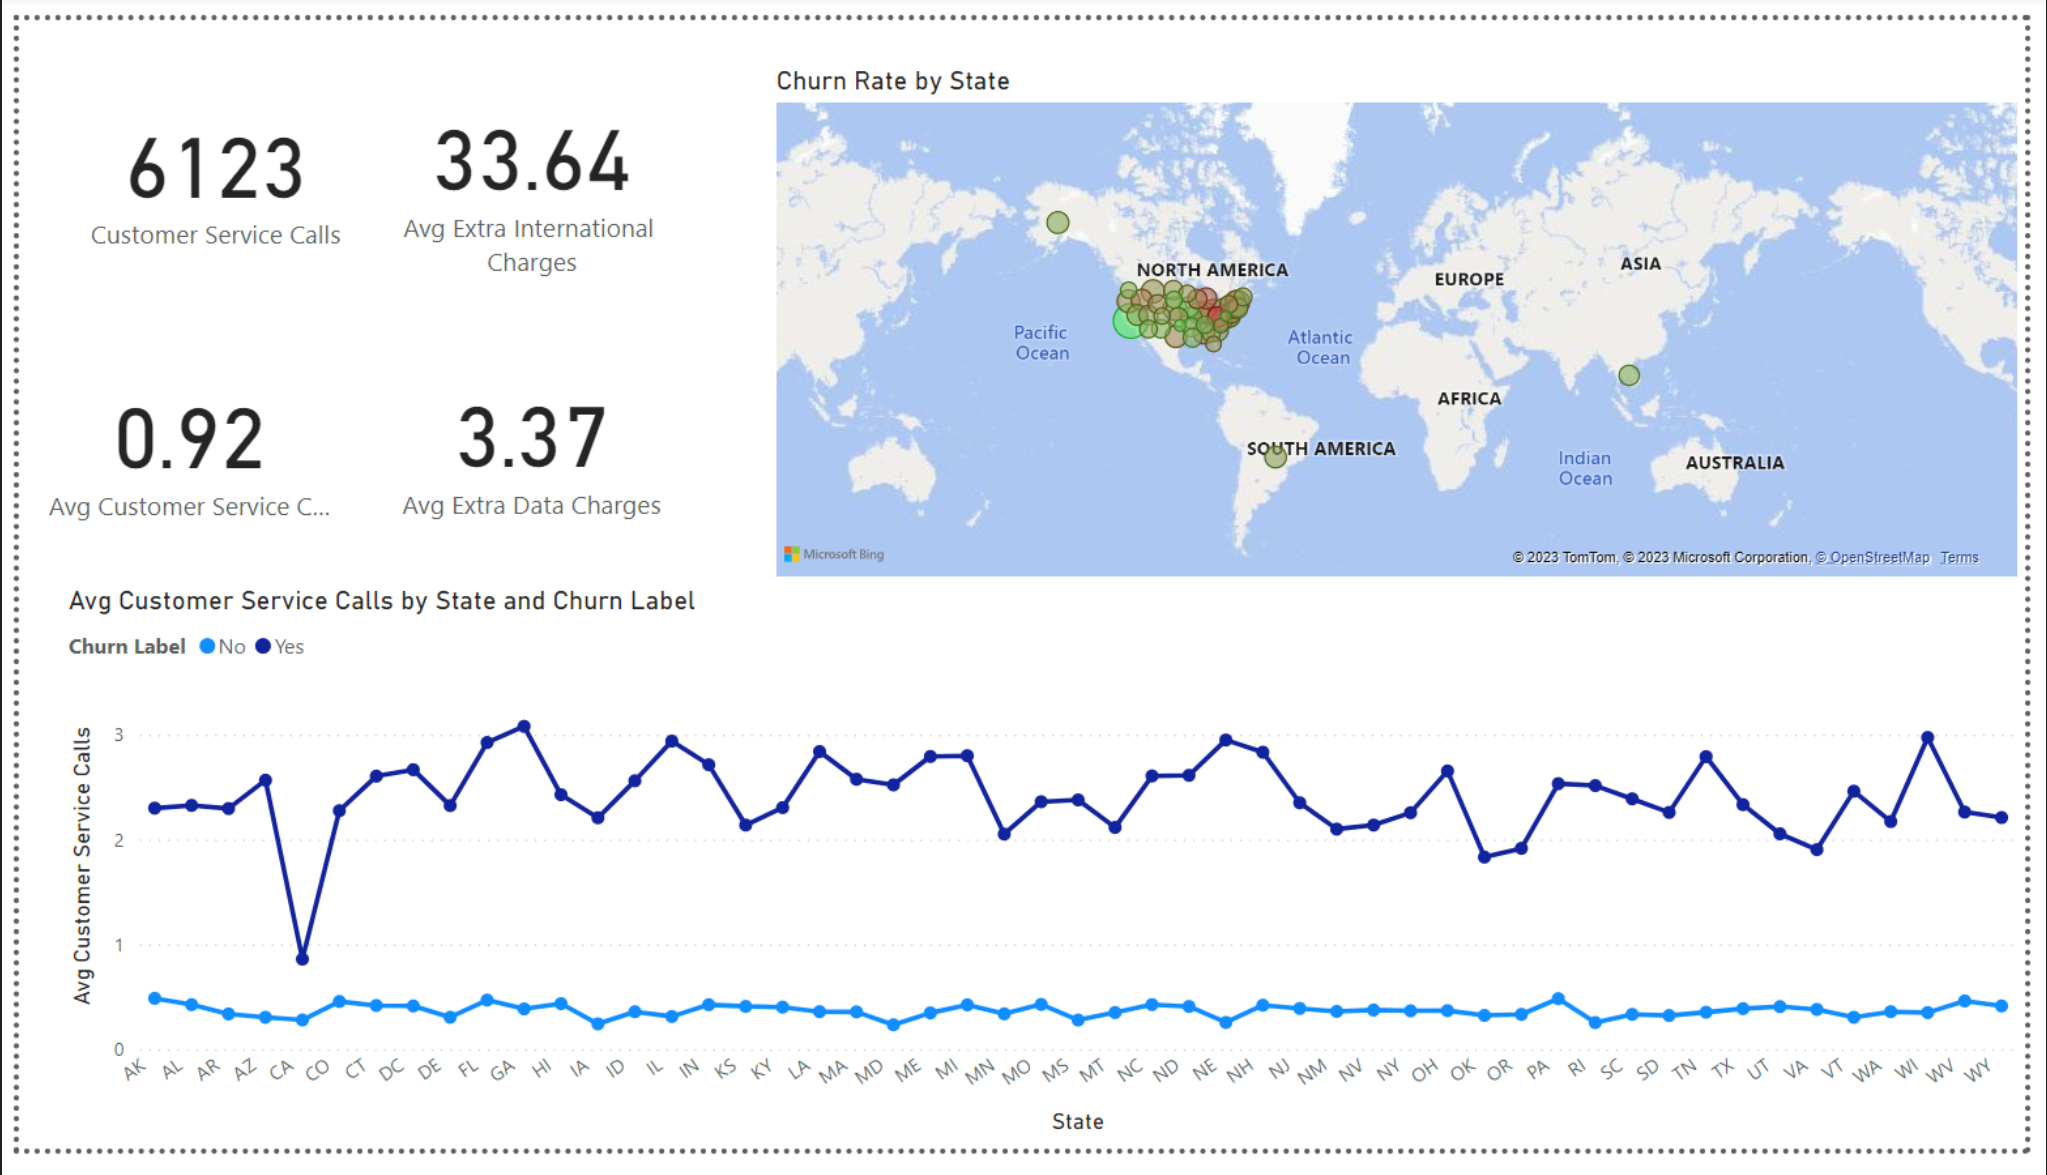

What the dashboard file says about the page in this screenshot:
{"tool":"powerbi","page":{"name":"Insights","canvas":[1280,720],"ordinal":9},"visuals":[{"type":"card","fields":{"Values":["Sum(Databel - Data.Customer Service Calls)"]},"box":[27.6,6.1,194.4,182.2],"z":0},{"type":"card","fields":{"Values":["Databel - Data.Avg Customer Service Calls"]},"box":[12.2,186.8,194.4,168.4],"z":1000},{"type":"card","fields":{"Values":["Databel - Data.Avg Extra International Charges"]},"box":[222,0,211.3,186.8],"z":2000},{"type":"card","fields":{"Values":["Databel - Data.Avg Extra Data Charges"]},"box":[209.8,165.4,234.3,209.8],"z":3000},{"type":"lineChart","fields":{"Category":["Databel - Data.State"],"Y":["Databel - Data.Avg Customer Service Calls"],"Series":["Databel - Data.Churn Label"]},"box":[27.2,359.9,1252.8,355],"z":4000},{"type":"map","fields":{"Category":["Databel - Data.State"],"Size":["Databel - Data.Churn Rate"]},"box":[477.7,27.6,802.3,332.2],"z":5000}]}

Visuals, with their boxes in screenshot pixels (x1, y1, x2, y2), scaled from the page's 1280x720 canvas onto the 2047x1175 screenshot:
card - Sum(Databel - Data.Customer Service Calls): bbox=(44, 10, 355, 307)
card - Databel - Data.Avg Customer Service Calls: bbox=(20, 305, 330, 580)
card - Databel - Data.Avg Extra International Charges: bbox=(355, 0, 693, 305)
card - Databel - Data.Avg Extra Data Charges: bbox=(336, 270, 710, 612)
lineChart - Databel - Data.State x Databel - Data.Avg Customer Service Calls: bbox=(43, 587, 2046, 1167)
map - Databel - Data.State x Databel - Data.Churn Rate: bbox=(764, 45, 2046, 587)
